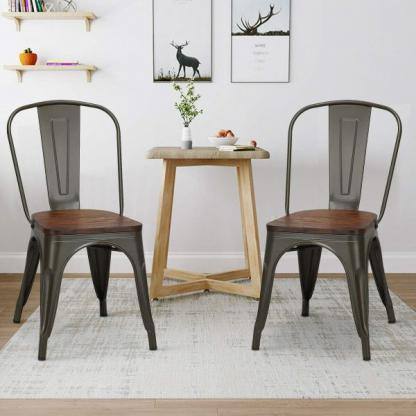chair: (0, 90, 159, 360), (258, 82, 404, 372)
table: (144, 134, 270, 303)
